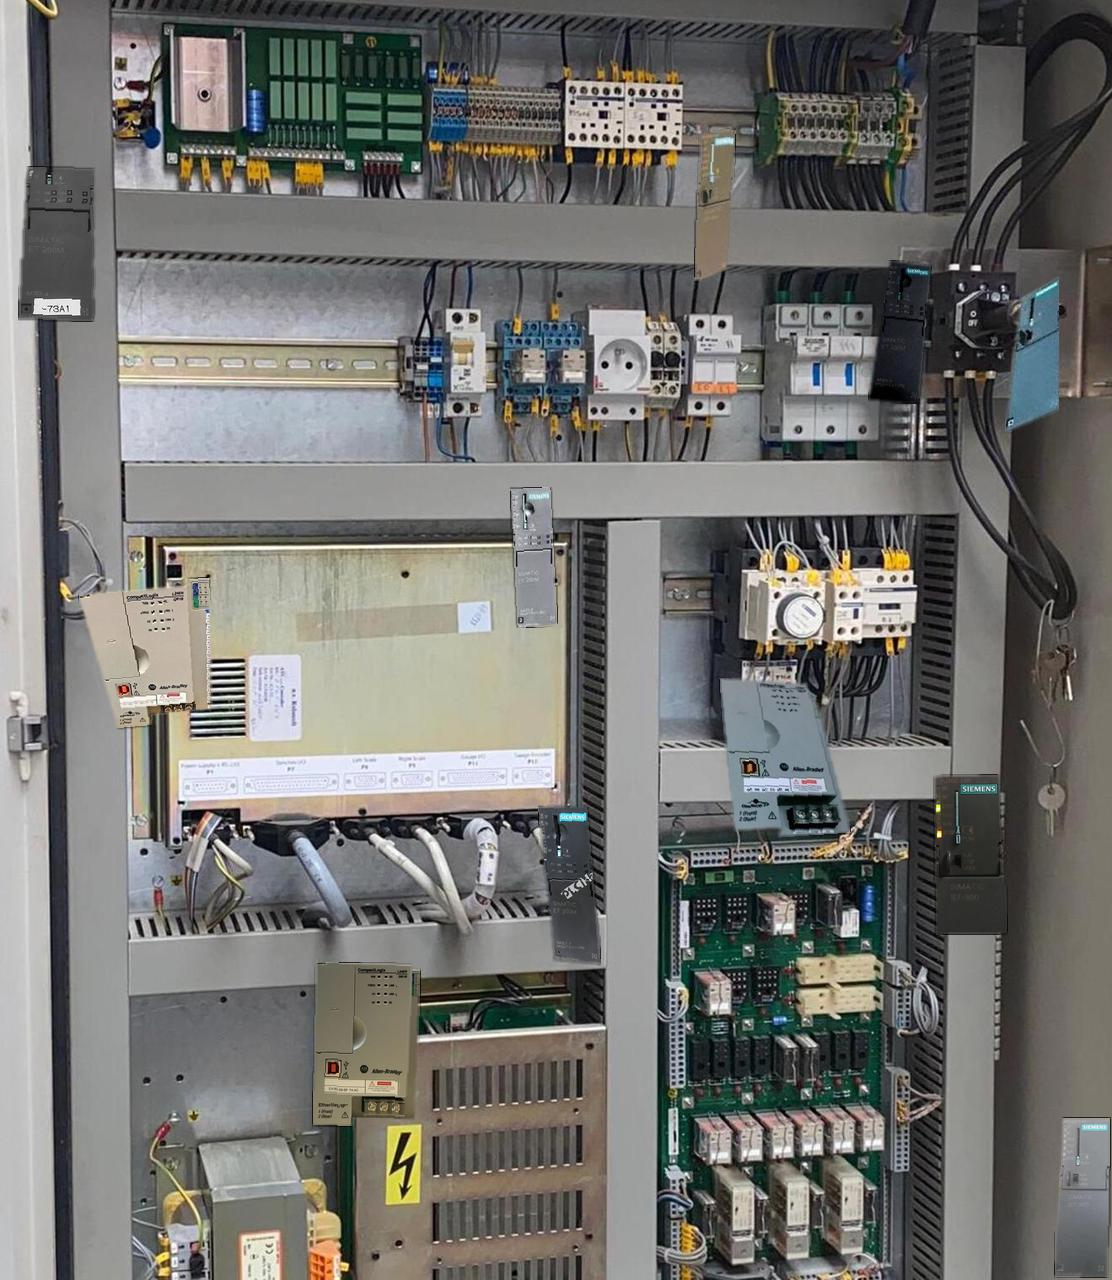AllenBradley: (719, 678, 850, 836), (79, 578, 211, 727), (313, 962, 419, 1125)
Siemens: (934, 774, 1006, 934), (1055, 1118, 1109, 1276), (1005, 276, 1058, 431), (694, 130, 736, 280)
